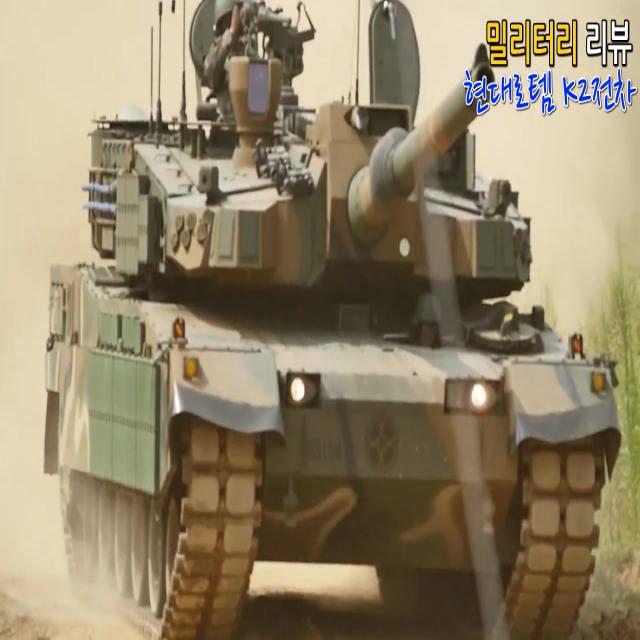korea tank: (44, 1, 620, 640)
